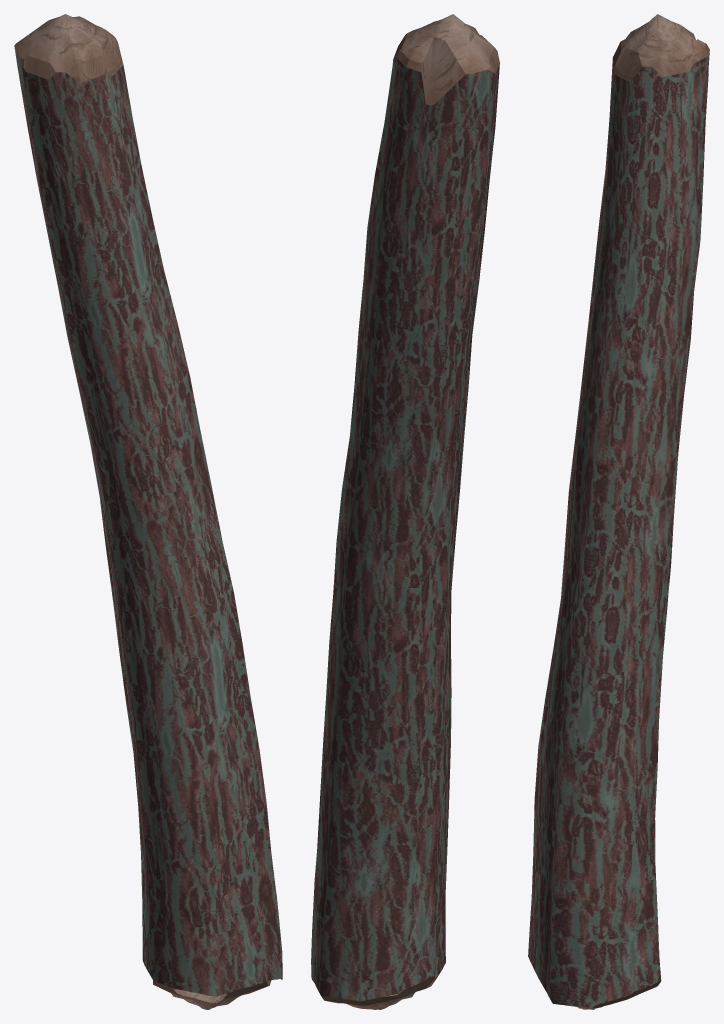
3 renders of one model, left to right at view 1: azimuth 30°, elevation 25°; view 2: azimuth 150°, elevation 25°; view 3: azimuth 270°, elevation 25°, orthographic. The views are drawn at different scales.
Visible parts, largest first — view 1: SM_MapleTree_01_half_bottom_LOD0; view 2: SM_MapleTree_01_half_bottom_LOD0; view 3: SM_MapleTree_01_half_bottom_LOD0.
Part boxes in pixels (left/top/right/bottom): SM_MapleTree_01_half_bottom_LOD0: left=14, top=14, right=282, bottom=1009; SM_MapleTree_01_half_bottom_LOD0: left=311, top=14, right=499, bottom=1009; SM_MapleTree_01_half_bottom_LOD0: left=528, top=14, right=709, bottom=1009.
Bounding box in the file's own units: 1.09 × 4.95 × 0.8653.
Materials: 1 (1 with a texture image).
